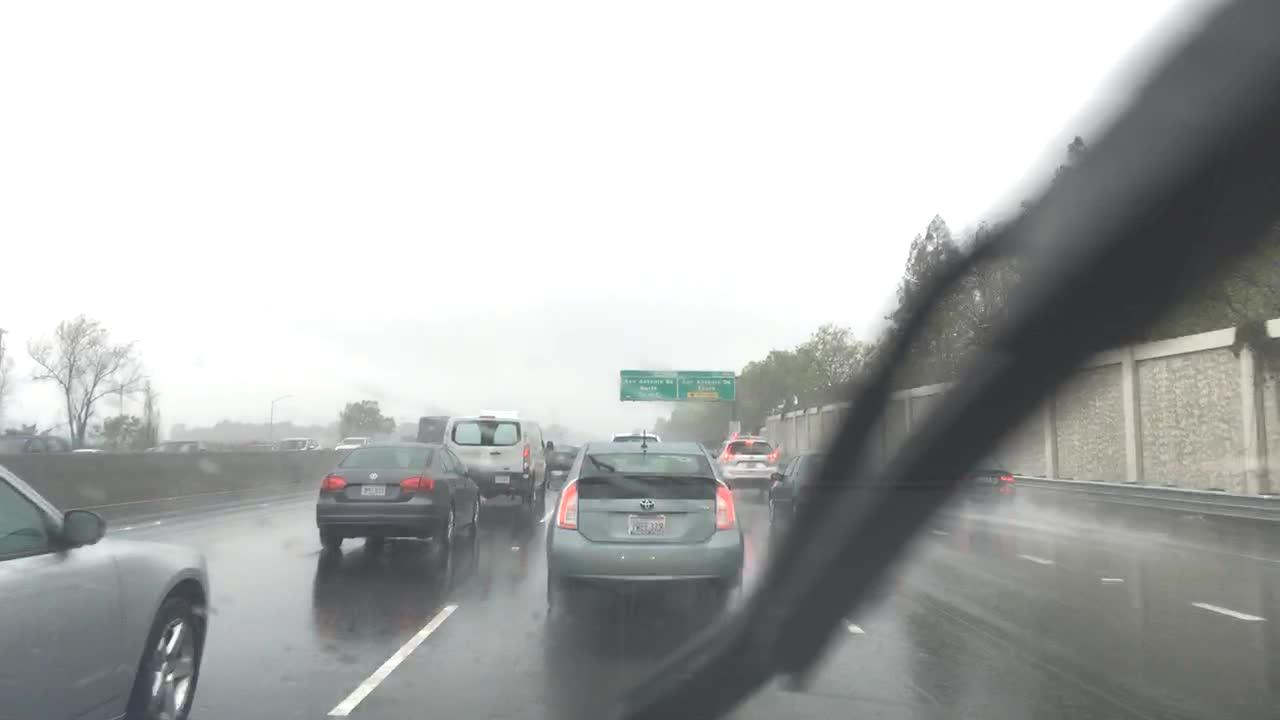Toyota: (634, 496, 661, 515)
Volkswagen: (364, 471, 383, 485)
